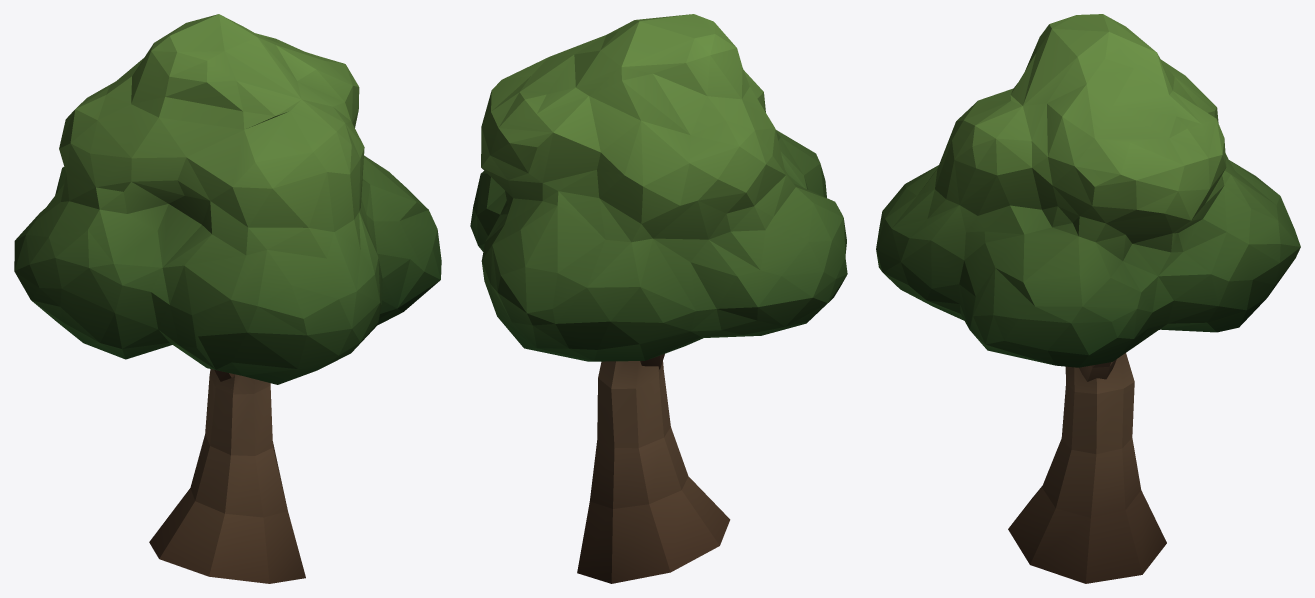
The model's file is dab_2.glb.
The picture shows the model from 3 angles, left to right: view 1: azimuth 30°, elevation 25°; view 2: azimuth 150°, elevation 25°; view 3: azimuth 270°, elevation 25°; orthographic projection. The views are drawn at different scales.
Parts seen in each view (by area): view 1: dab_2; view 2: dab_2; view 3: dab_2.
Boxes of the visible parts, bbox=[...] form: dab_2: bbox=[14, 14, 441, 583]; dab_2: bbox=[470, 14, 847, 583]; dab_2: bbox=[876, 14, 1300, 583].
Size of the model in its own units: 1.7 by 2.43 by 1.79.
